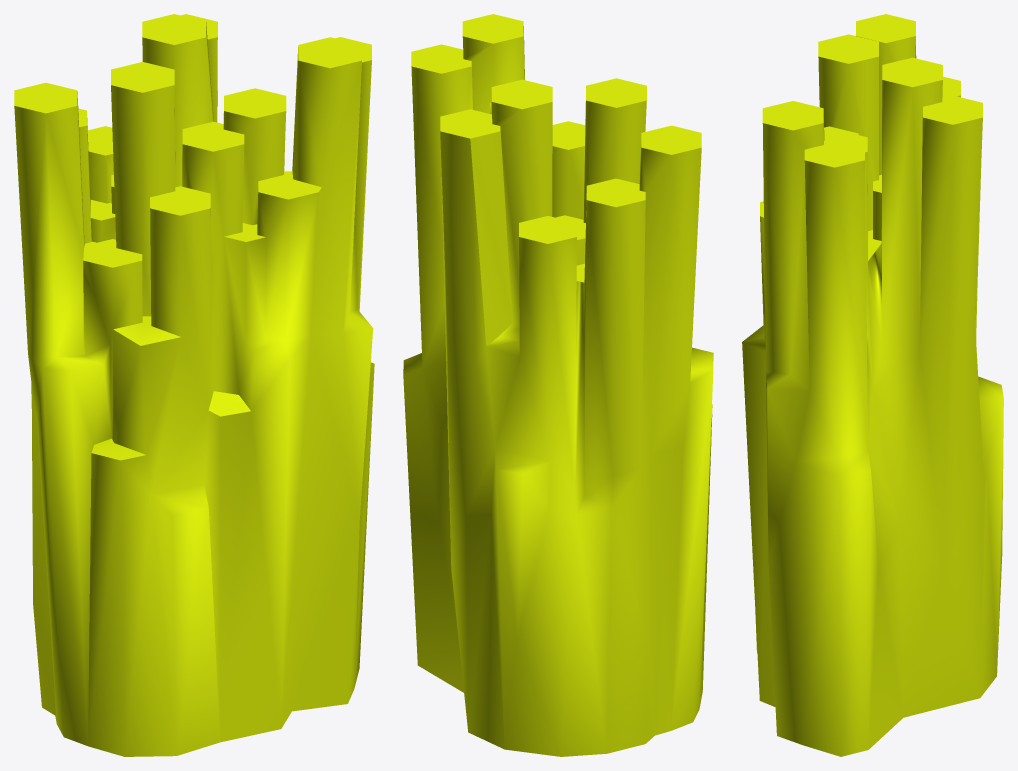
The model's file is SM_Cliff_2.FBX.
3 renders of one model, left to right at view 1: azimuth 30°, elevation 25°; view 2: azimuth 150°, elevation 25°; view 3: azimuth 270°, elevation 25°, orthographic. The views are drawn at different scales.
Parts seen in each view (by area): view 1: Cylinder814; view 2: Cylinder814; view 3: Cylinder814.
Part boxes in pixels (x1=…): Cylinder814: x1=14, y1=14, x2=374, y2=756; Cylinder814: x1=403, y1=14, x2=713, y2=756; Cylinder814: x1=742, y1=14, x2=1003, y2=756.
Bounding box in the file's own units: 1116 × 2052 × 791.
